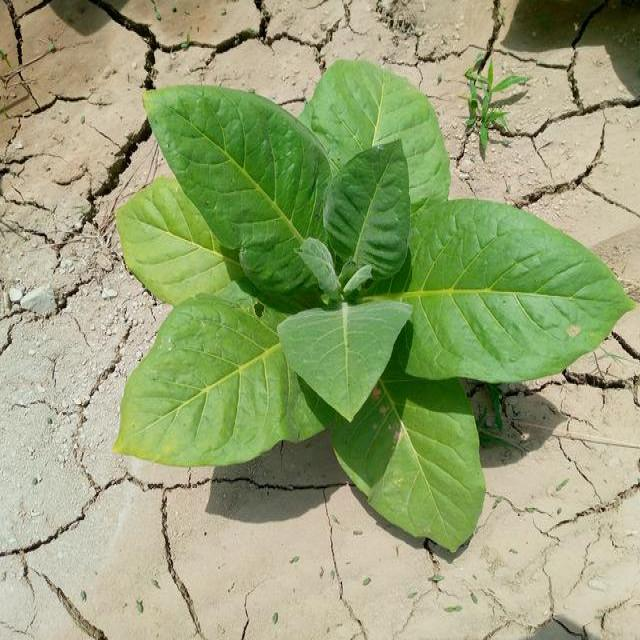crop: (113, 59, 635, 558)
